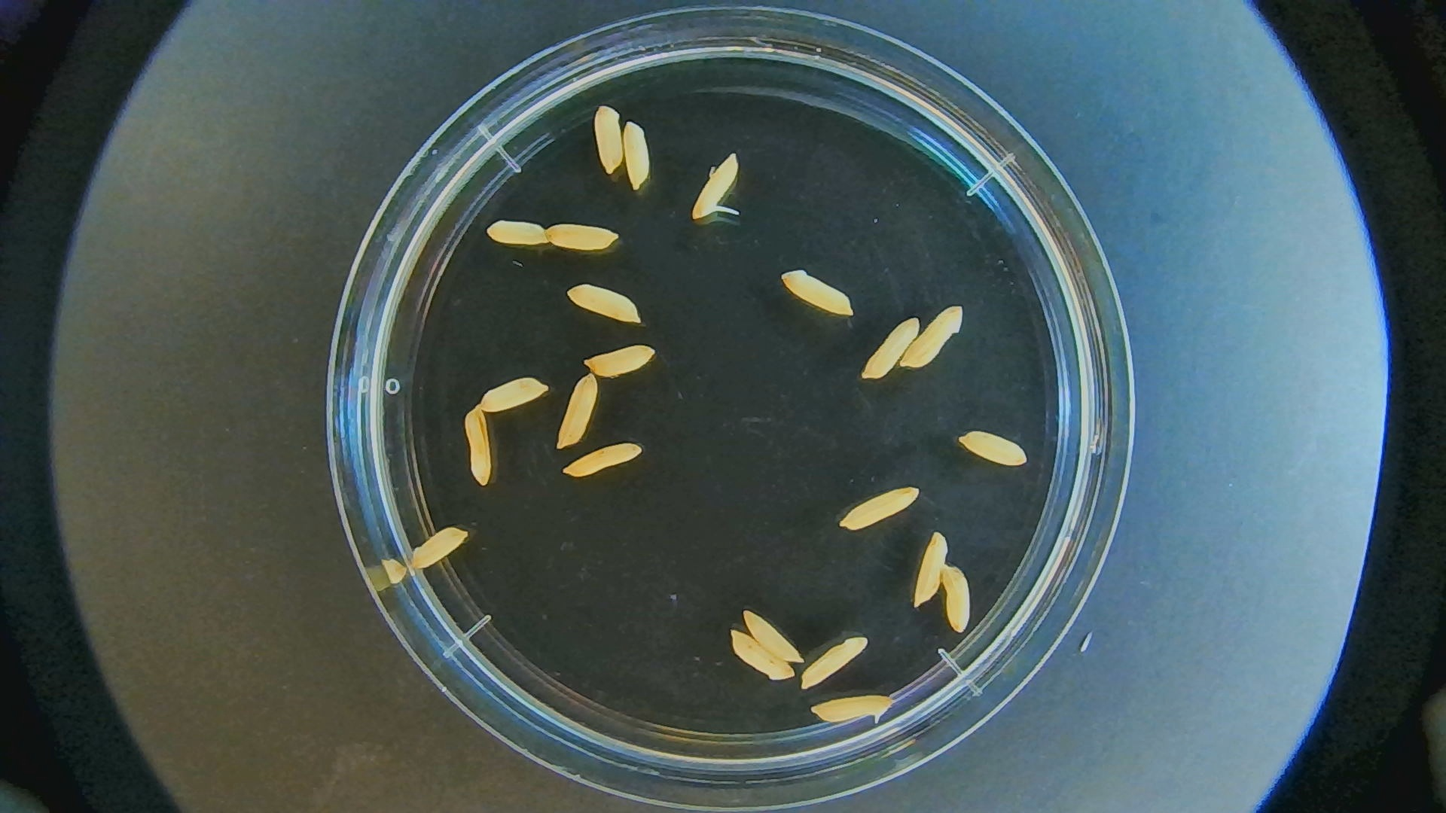no: (773, 263, 859, 316), (898, 304, 963, 368), (840, 484, 922, 531), (802, 635, 870, 690), (864, 316, 920, 381), (729, 629, 796, 680), (566, 282, 644, 324), (743, 611, 806, 663), (807, 693, 896, 728), (560, 372, 601, 447), (912, 529, 950, 606), (959, 429, 1029, 470), (407, 525, 468, 572), (561, 443, 643, 477), (584, 343, 659, 380), (477, 376, 553, 411), (462, 406, 493, 486), (546, 221, 621, 254), (621, 120, 652, 190), (592, 105, 623, 174), (944, 563, 972, 633), (487, 219, 552, 248)
yes: (691, 149, 743, 220)
